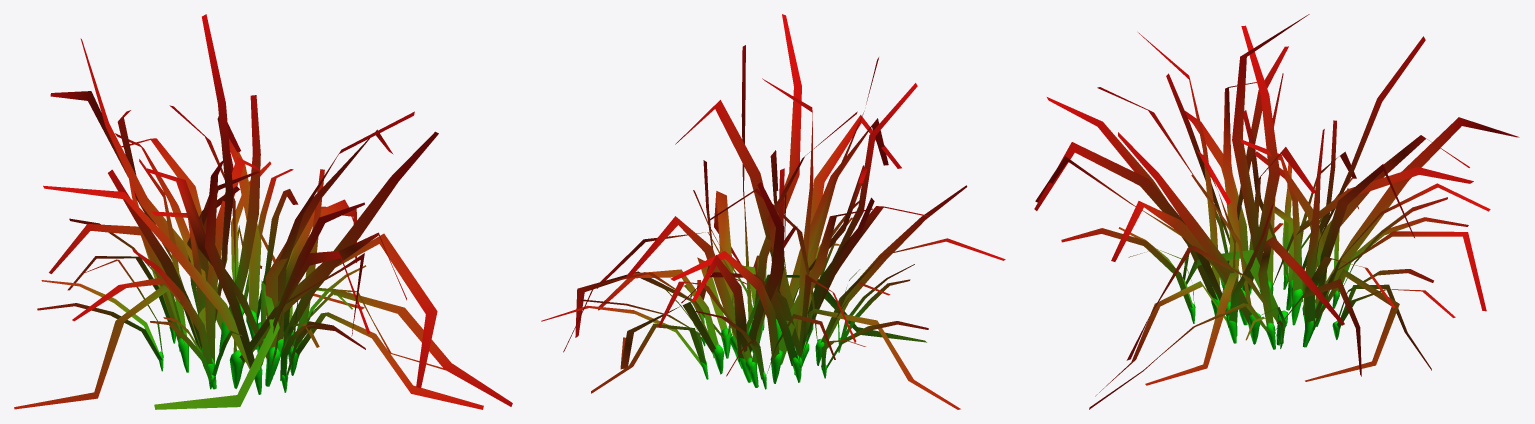
Rendered from Var2.fbx.
3 renders of one model, left to right at view 1: azimuth 30°, elevation 25°; view 2: azimuth 150°, elevation 25°; view 3: azimuth 270°, elevation 25°, orthographic. The views are drawn at different scales.
Parts seen in each view (by area): view 1: Var2; view 2: Var2; view 3: Var2.
Boxes of the visible parts, box(x1,y1,x2,y2) form: Var2: box(14, 14, 512, 409); Var2: box(541, 14, 1005, 409); Var2: box(1034, 14, 1519, 409).
Size of the model in its own units: 53.01 by 44.95 by 62.89.
